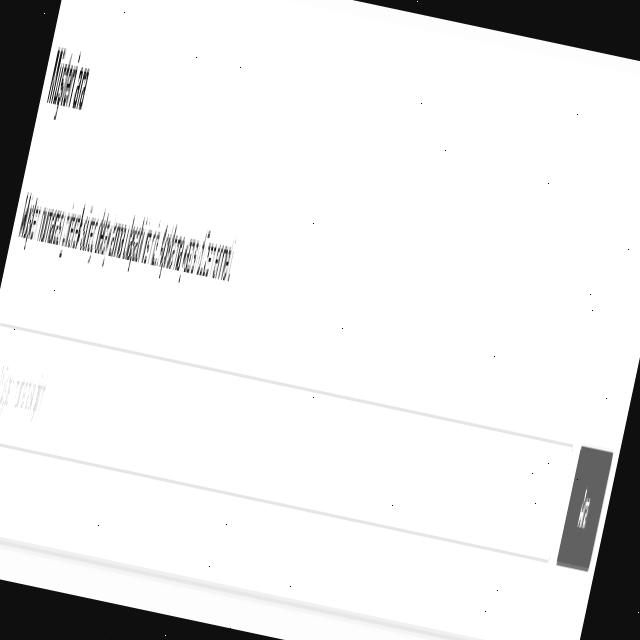QLabel: (11, 172, 242, 301), (38, 23, 98, 136), (570, 468, 598, 552)
VBtn: (551, 429, 618, 586)
VCard: (0, 0, 640, 640)
VTextField: (0, 305, 578, 578)
